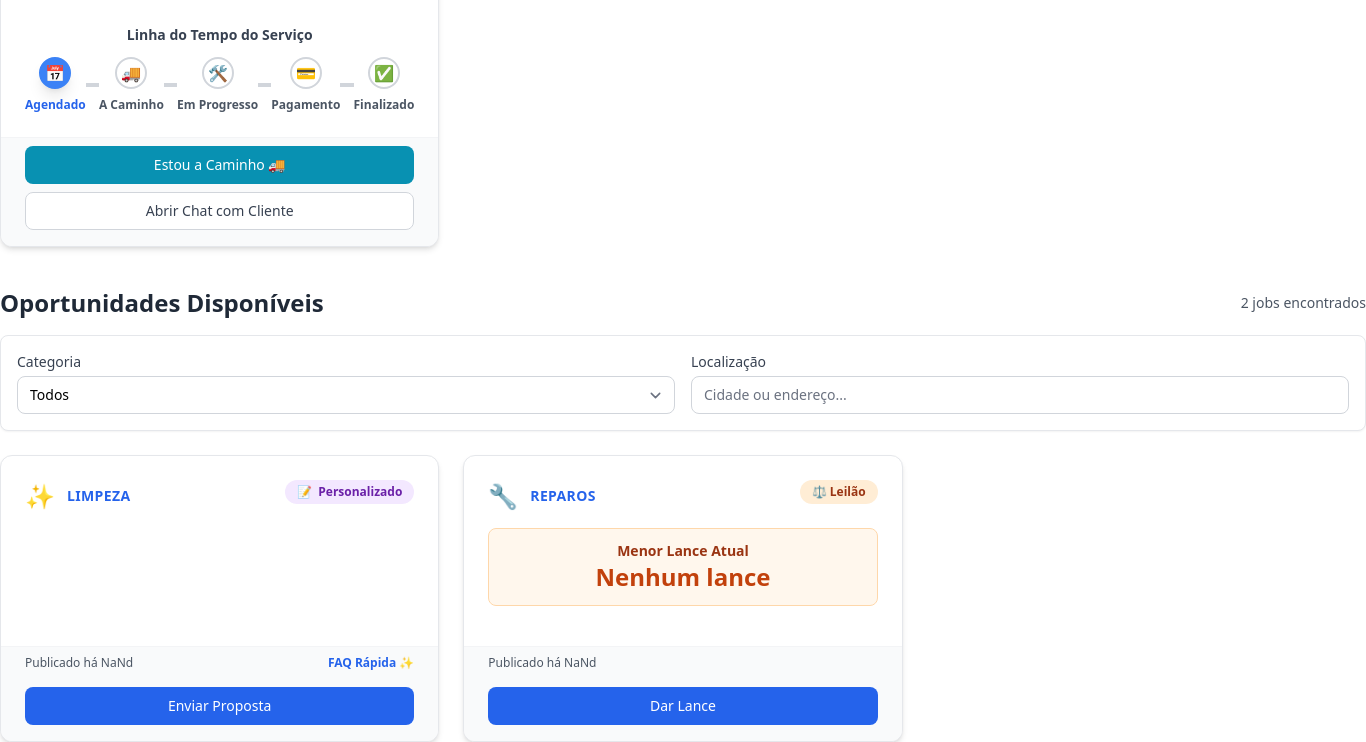
Test: ProviderDashboard – ações e fluxos principais › filtra disponíveis por categoria e localização e limpa filtros
(page scrolled)
Select "limpeza" in the dropdown at (346, 395), box [17,376,675,414]
(page scrolled)
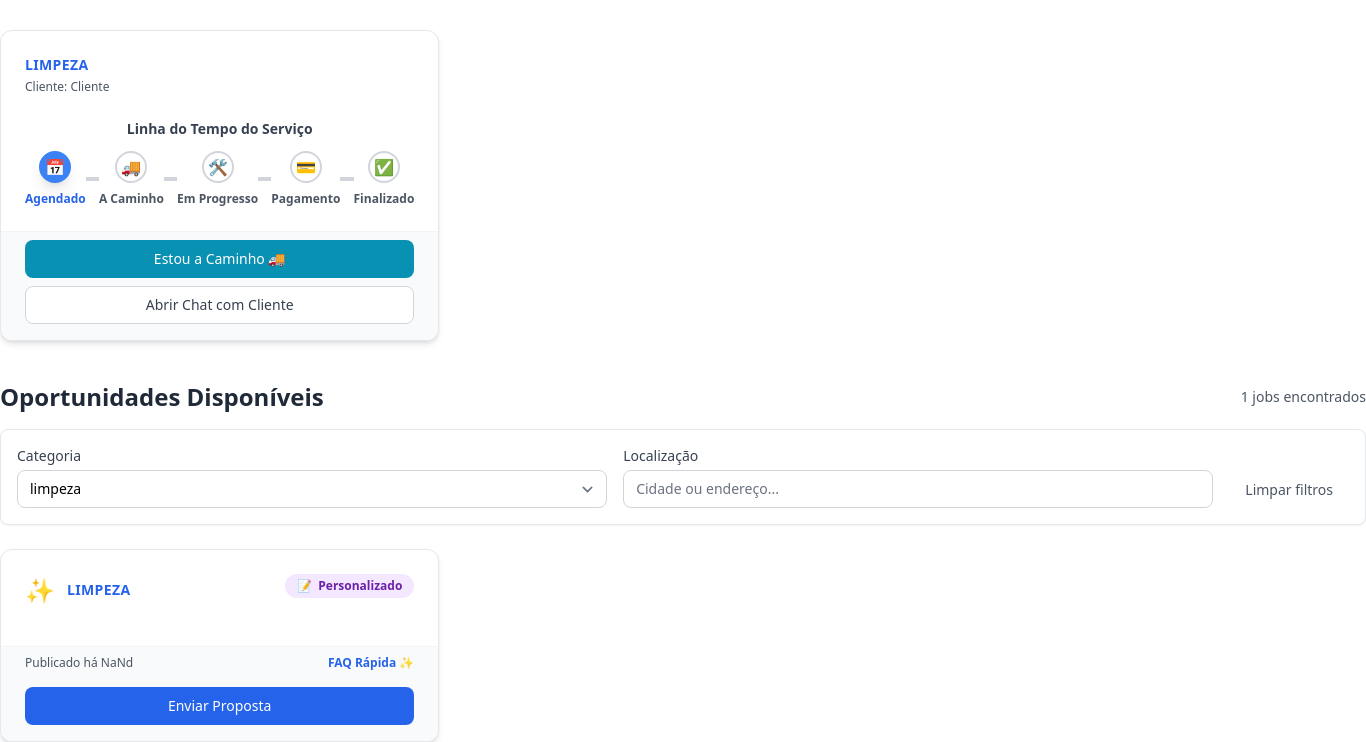
Note: Placeholder atualizado para refletir o componente atual
Type "são" into the field with placeholder "Cidade ou endereço..." at (918, 489), box [623,470,1213,508]
(page scrolled)
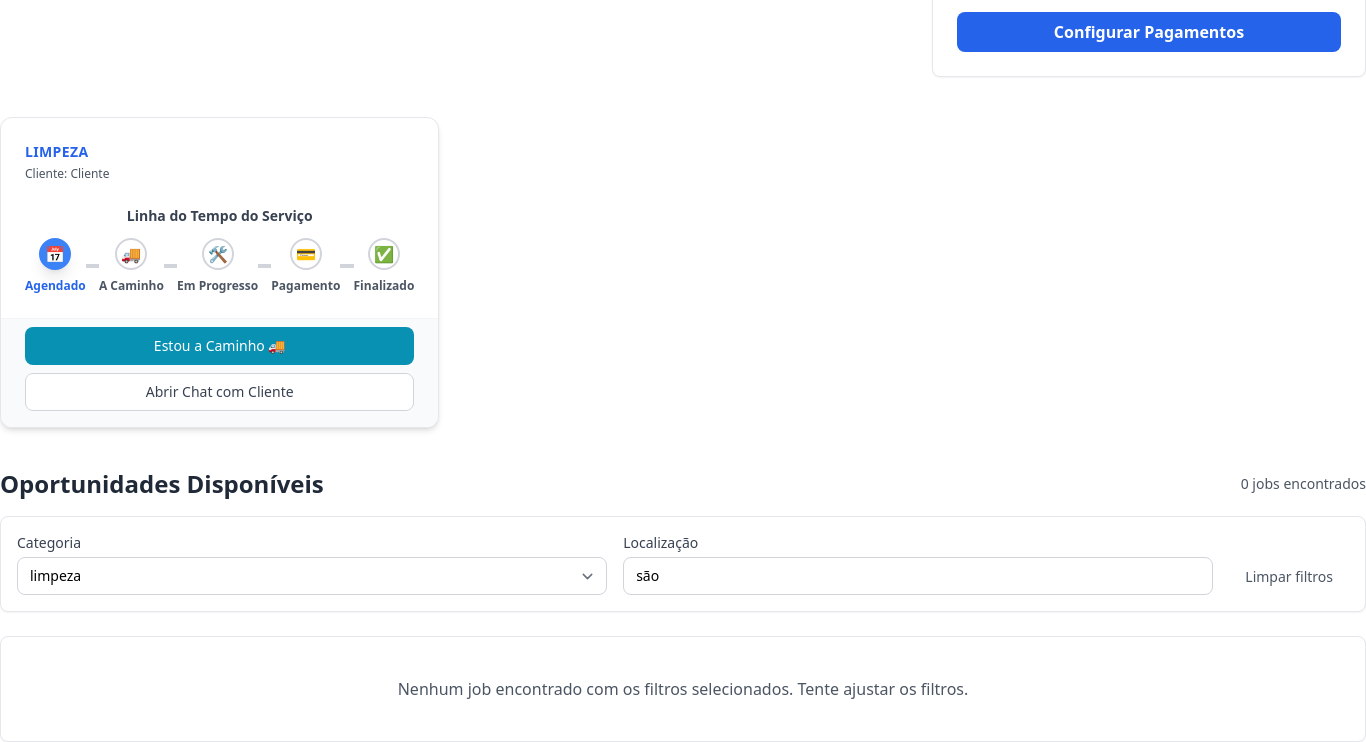
Note: Botão limpar aparece
Click the button "Limpar filtros" at (1289, 577), box [1229,559,1349,595]
(page scrolled)
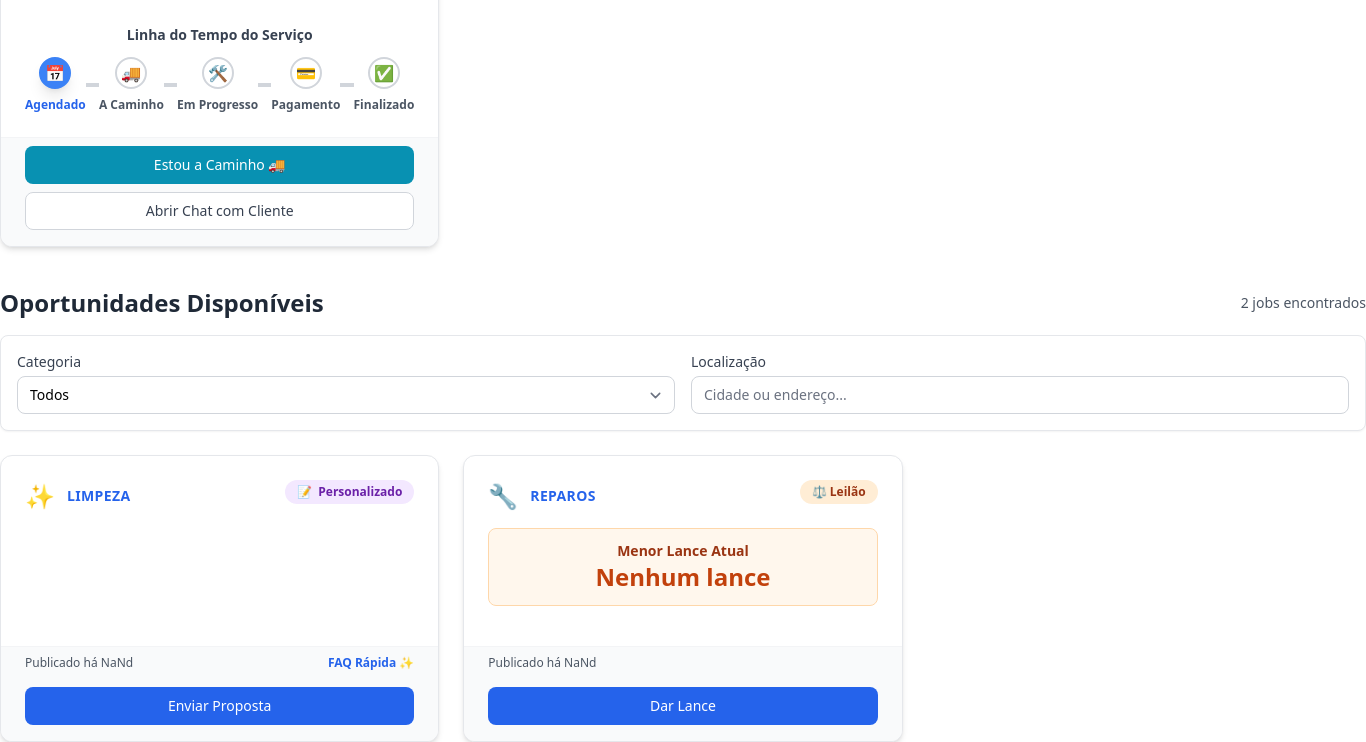
Check: the field with placeholder "Cidade ou endereço..." is empty, box [691,376,1349,414]
